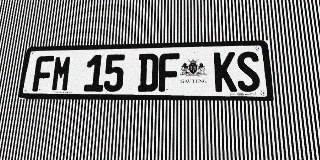1: (84, 55, 105, 92)
5: (103, 54, 125, 92)
D: (137, 53, 159, 92)
F: (158, 53, 179, 92), (32, 56, 54, 92)
K: (214, 52, 237, 92)
M: (50, 55, 73, 92)
S: (236, 51, 261, 92)
